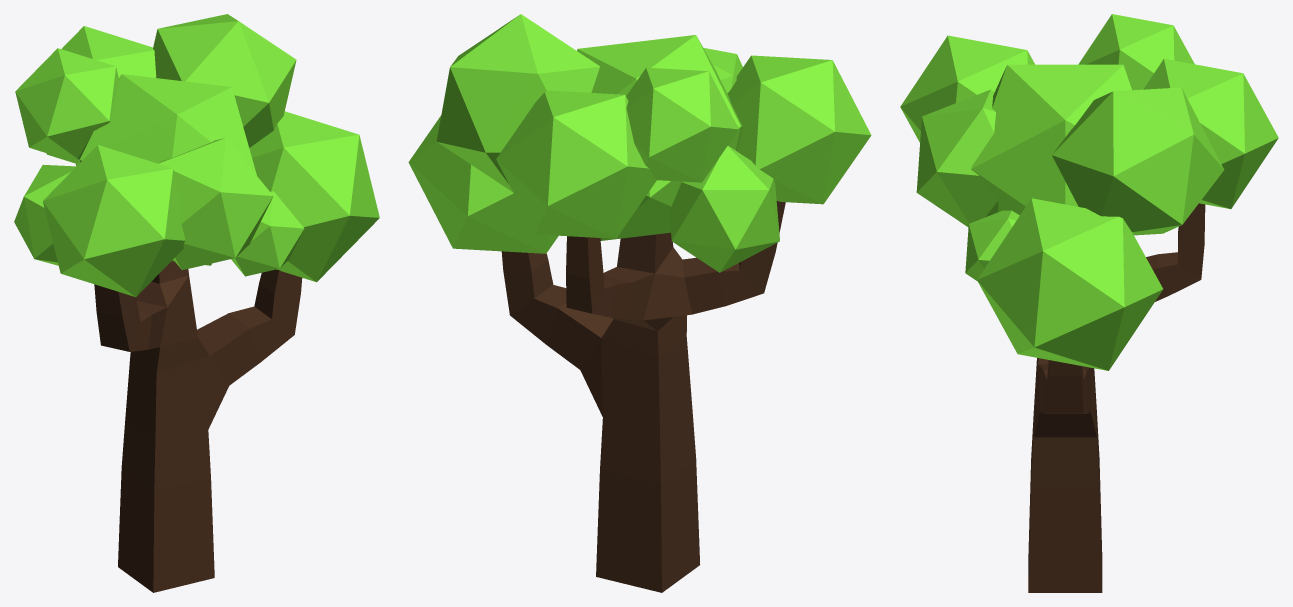
Rendered from TreeB.fbx.
3 views of the same model, side by side, from view 1: azimuth 30°, elevation 25°; view 2: azimuth 150°, elevation 25°; view 3: azimuth 270°, elevation 25° (orthographic). The views are drawn at different scales.
Visible parts, largest first — view 1: Tree; view 2: Tree; view 3: Tree.
Part boxes in pixels (x1,y1,x2,y2): Tree: [14, 14, 379, 592]; Tree: [408, 14, 871, 592]; Tree: [900, 14, 1278, 592].
Size of the model in its own units: 379 by 533 by 342.
